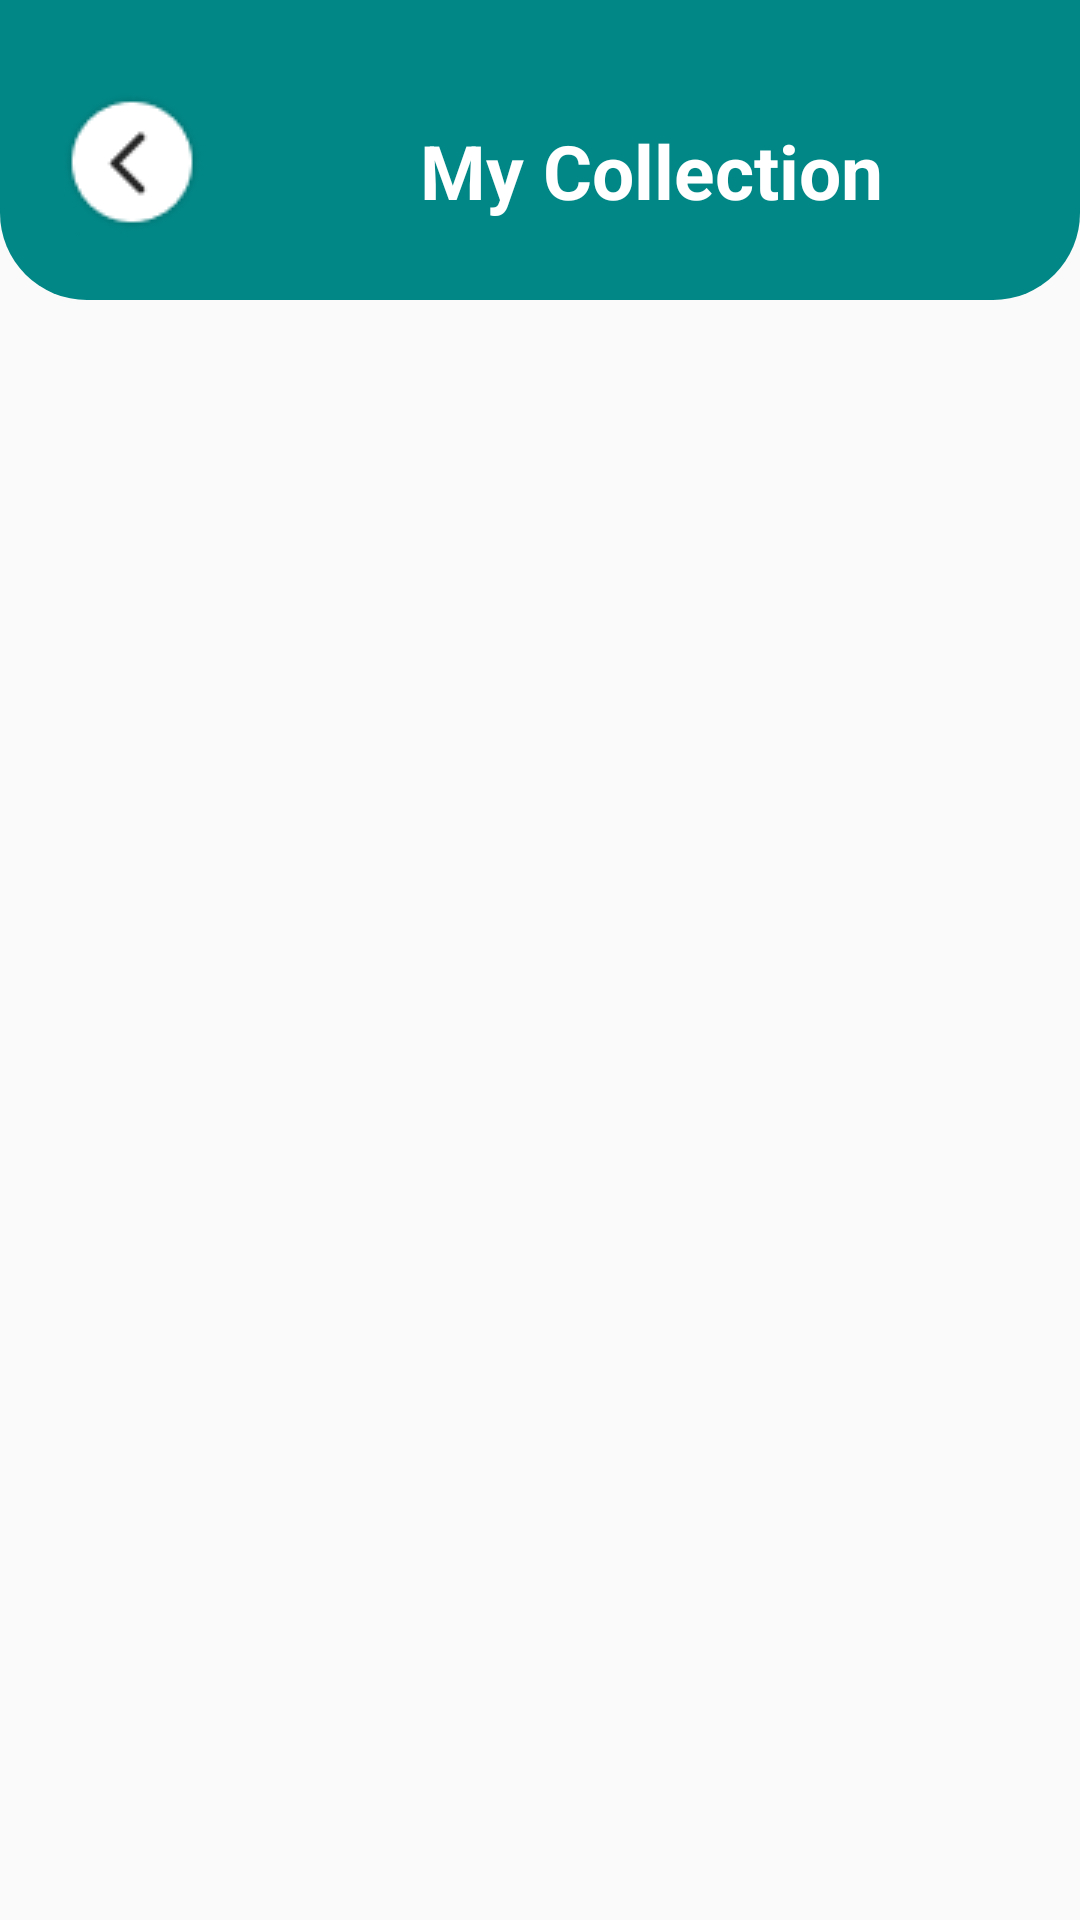

Icons on this 1080x1920 Android screen, each with the point to tap as (x,y):
circle back: (132,162)
